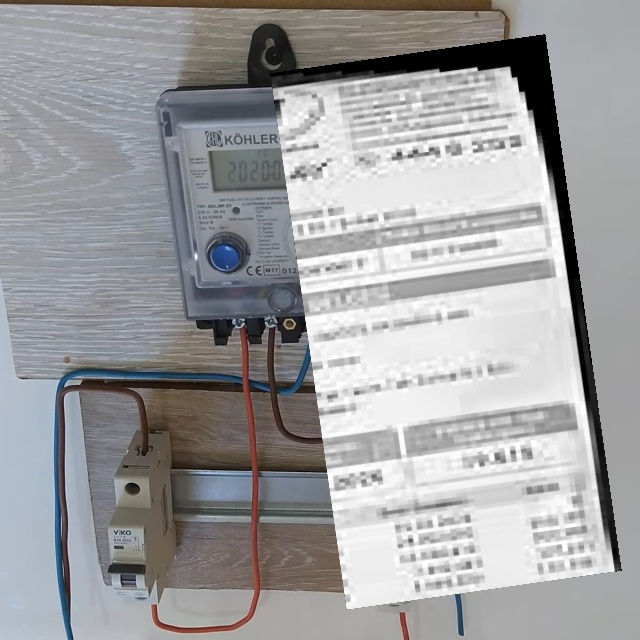electricity-bill: (270, 34, 622, 610)
